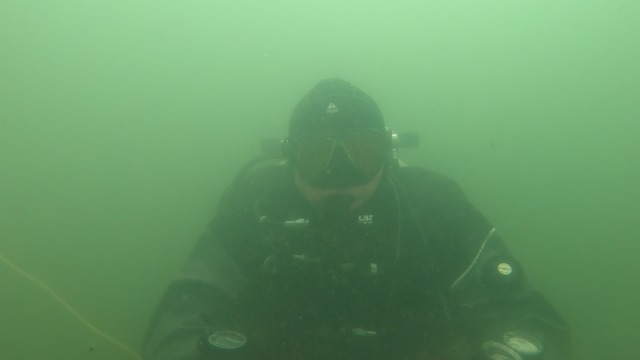Head: (279, 73, 409, 229)
